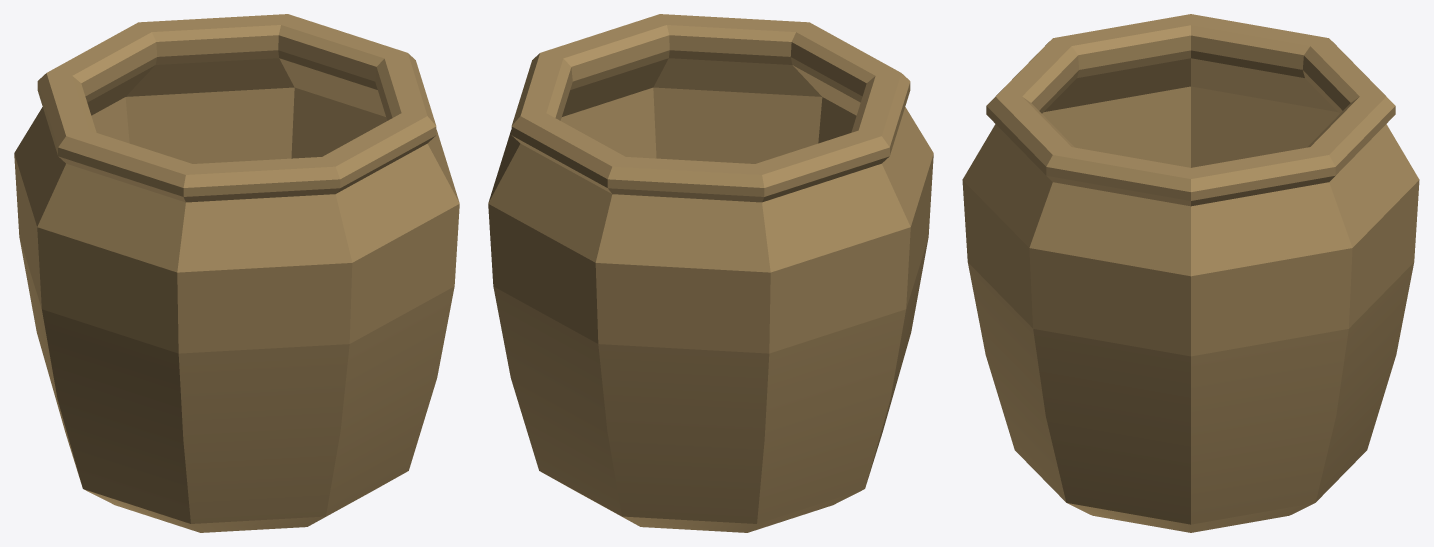
Rendered from Urn.fbx.
3 renders of one model, left to right at view 1: azimuth 30°, elevation 25°; view 2: azimuth 150°, elevation 25°; view 3: azimuth 270°, elevation 25°, orthographic.
Parts seen in each view (by area): view 1: Urnn; view 2: Urnn; view 3: Urnn.
Boxes of the visible parts, box(x1,y1,x2,y2) form: Urnn: box(14, 14, 459, 532); Urnn: box(488, 14, 933, 532); Urnn: box(962, 14, 1419, 532).
Size of the model in its own units: 87.52 by 79.74 by 87.52.
